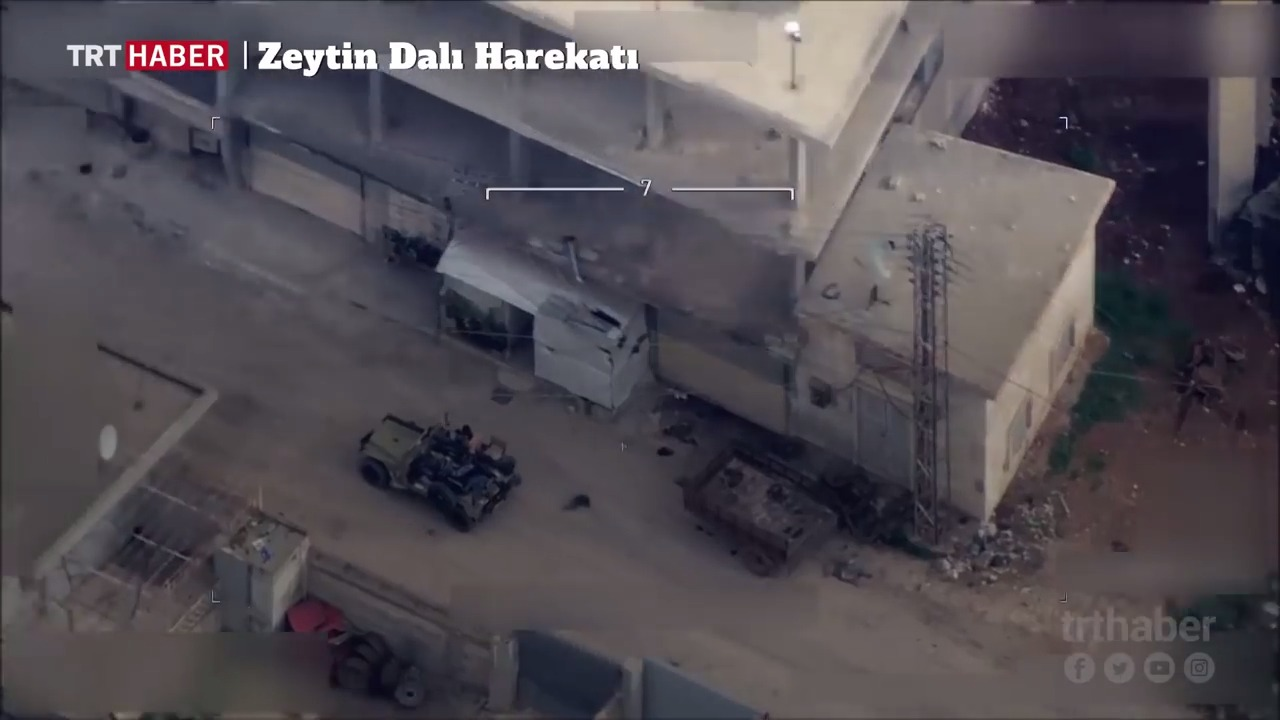arac: (675, 431, 850, 590), (349, 409, 526, 531)
bina: (782, 150, 1169, 531)
